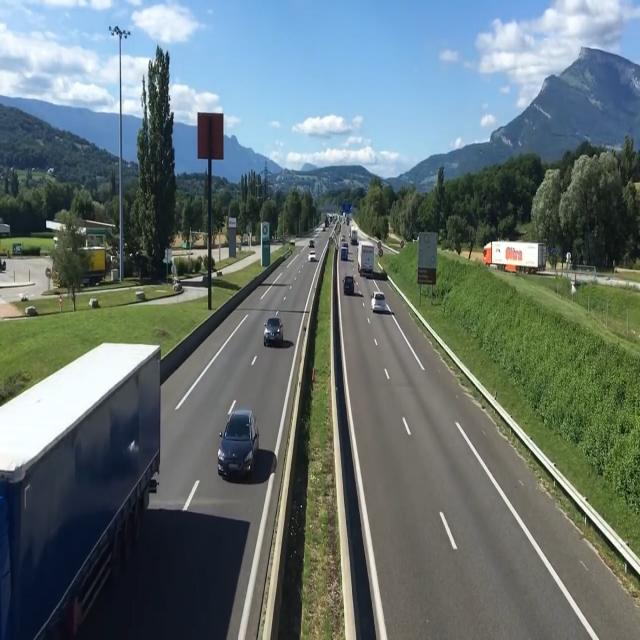car: (217, 401, 261, 486), (264, 313, 284, 349), (371, 286, 392, 317), (342, 266, 358, 299), (306, 247, 318, 264)
truck: (482, 235, 544, 269), (358, 237, 376, 281)
